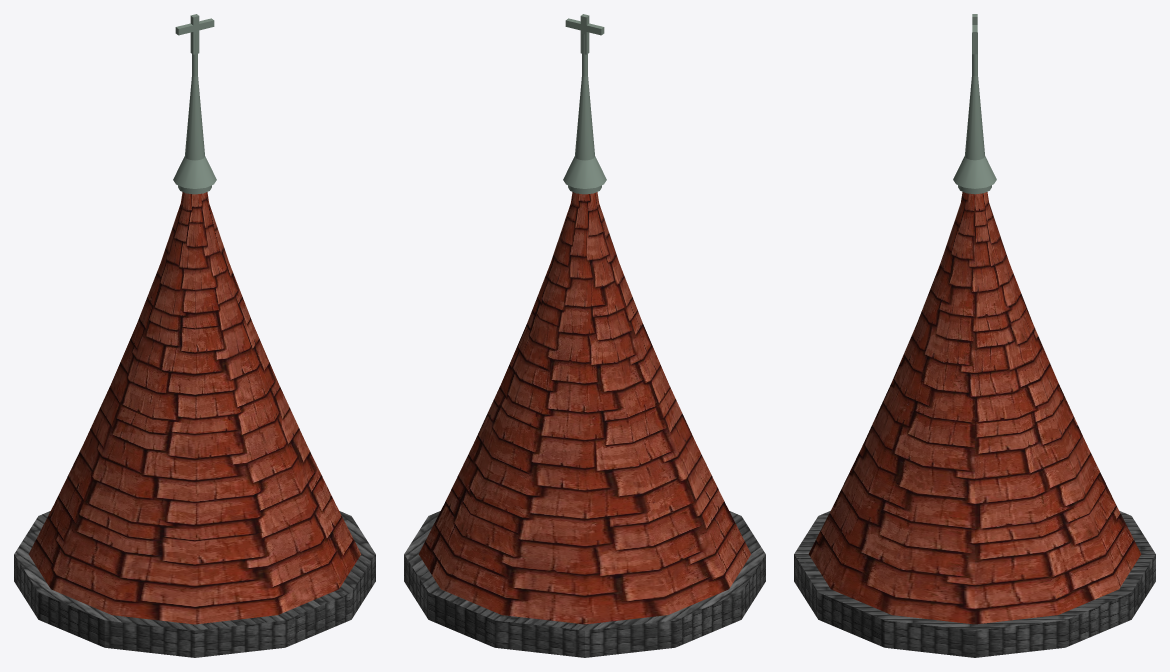
The model's file is spire.glb.
3 views of the same model, side by side, from view 1: azimuth 30°, elevation 25°; view 2: azimuth 150°, elevation 25°; view 3: azimuth 270°, elevation 25° (orthographic).
Visible parts, largest first — view 1: Roof_Tile_Spire_Object; view 2: Roof_Tile_Spire_Object; view 3: Roof_Tile_Spire_Object.
Part boxes in pixels (x1,y1,x2,y2): Roof_Tile_Spire_Object: (14,14,375,657); Roof_Tile_Spire_Object: (404,14,765,657); Roof_Tile_Spire_Object: (794,14,1155,657).
Bounding box in the file's own units: 2.64 × 4.55 × 2.64.
3 materials, 2 textured.
